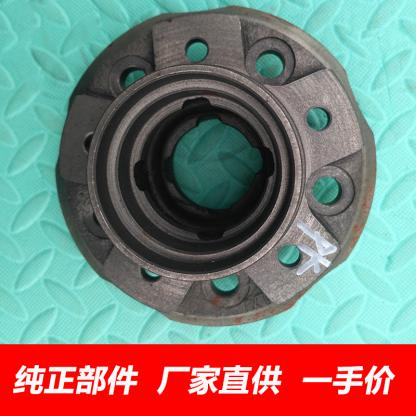FOD: (54, 6, 382, 330)
